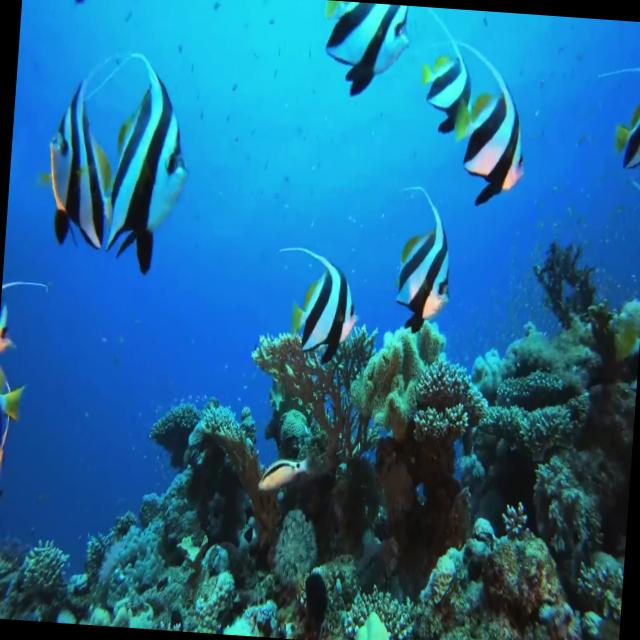fish: (106, 47, 197, 270), (42, 53, 122, 250), (448, 75, 532, 206), (280, 243, 362, 361), (322, 0, 414, 96), (393, 188, 455, 327), (420, 46, 476, 146), (612, 81, 640, 173)
